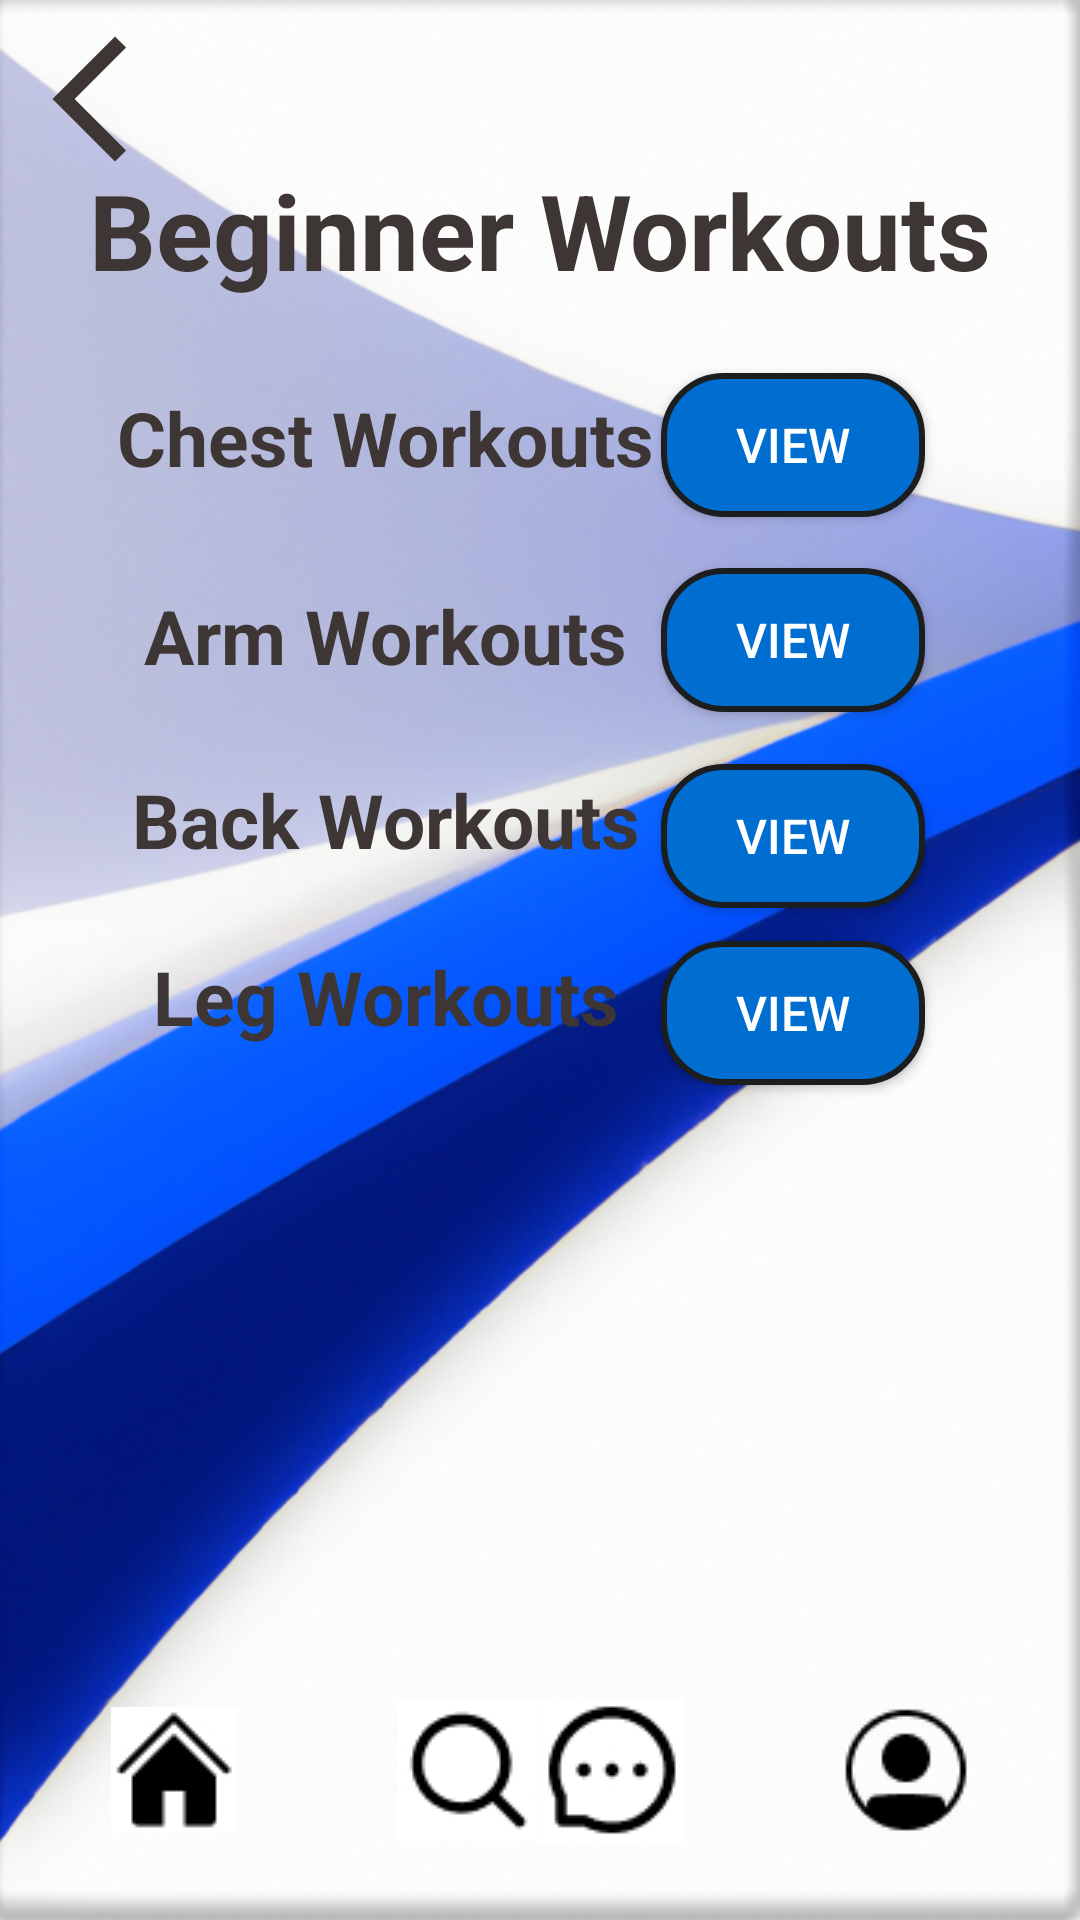

Where to tap for icons on this 1080*1920 app screen, as [x,y]:
arrow back: [90,99]
